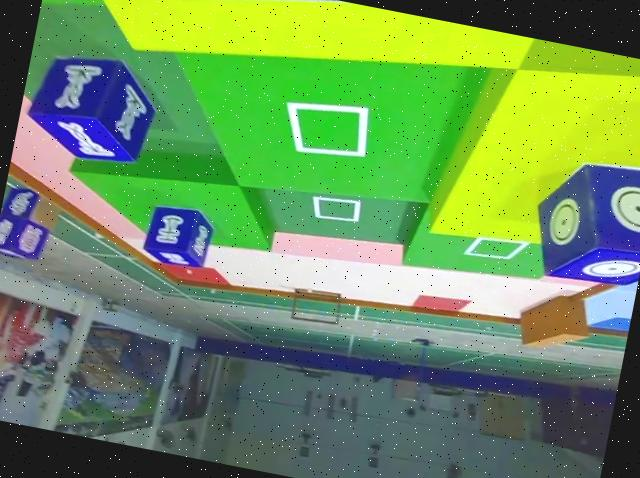R2 Fake Blue: (0, 209, 50, 263)
R2 Real Blue: (21, 41, 164, 168), (523, 140, 640, 288), (141, 196, 219, 270)
